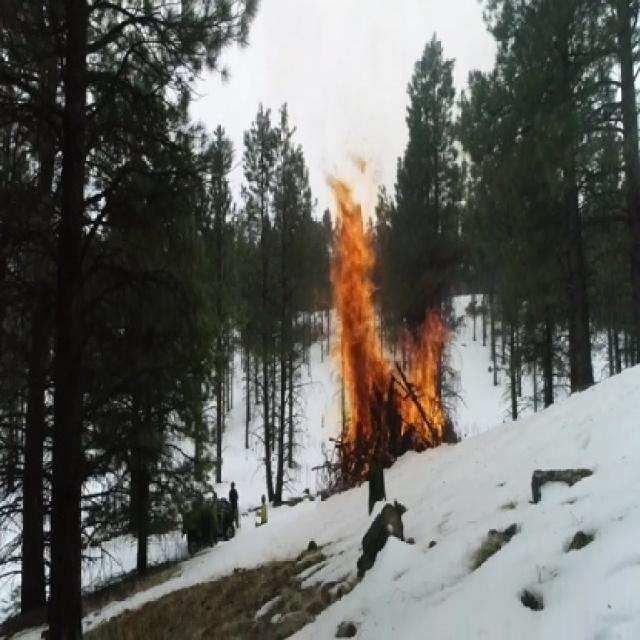Fire: (321, 166, 454, 480)
